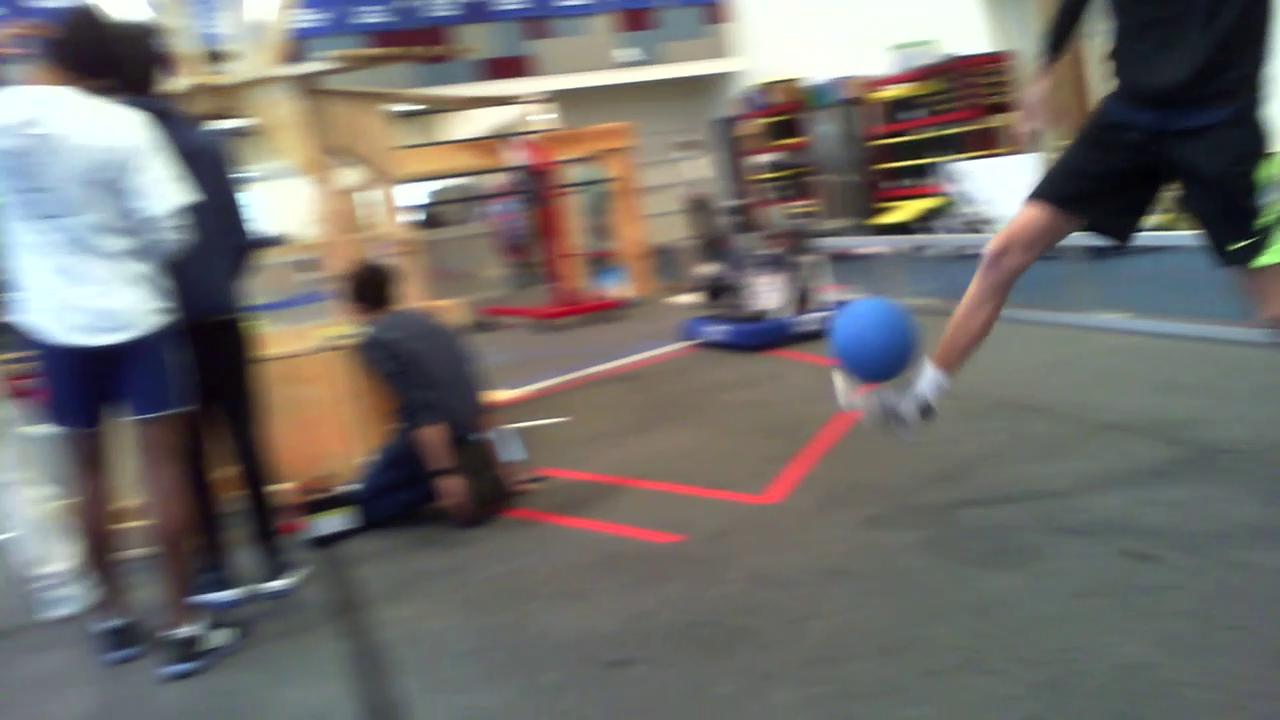robot: (679, 243, 840, 352)
